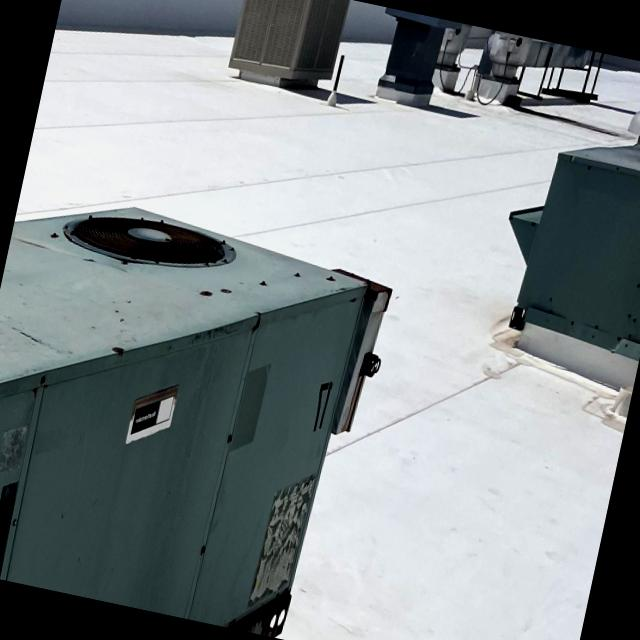RTU: (0, 166, 409, 640), (466, 39, 640, 401)
SPLIT-SYSTEM: (212, 0, 357, 109)
